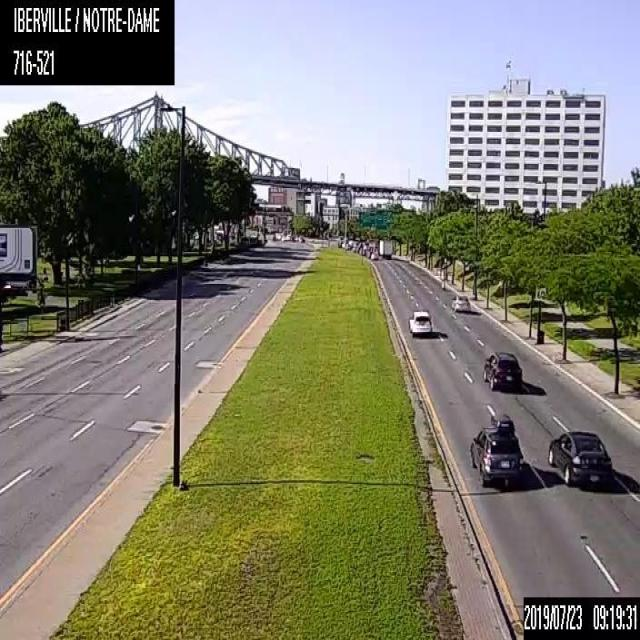vehicle: (544, 426, 614, 486), (468, 411, 523, 485), (481, 351, 522, 389), (408, 310, 430, 334), (451, 292, 470, 313), (378, 238, 394, 256), (370, 251, 378, 259)
